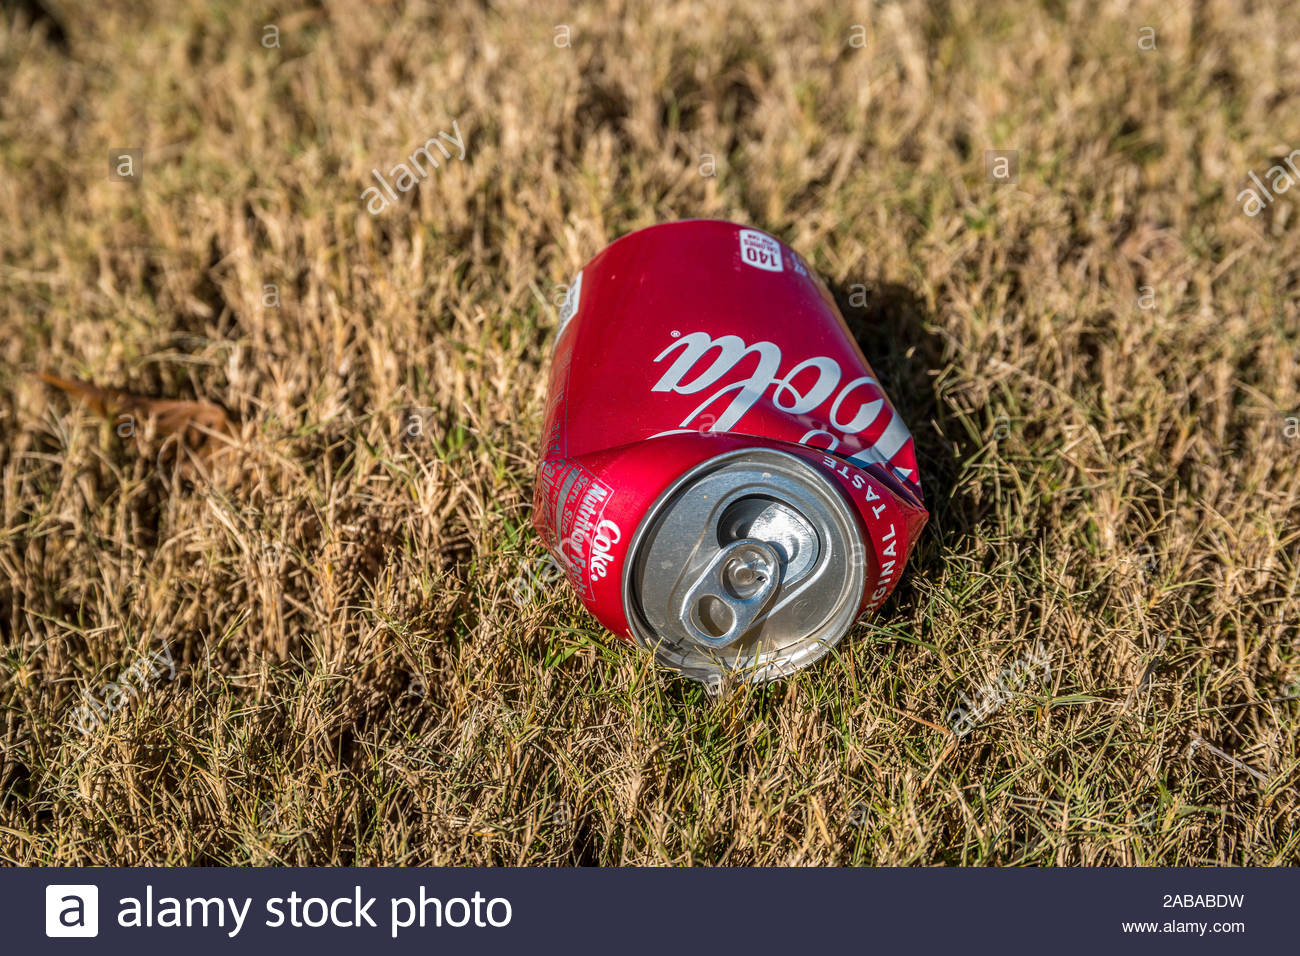can: (517, 211, 1011, 714)
